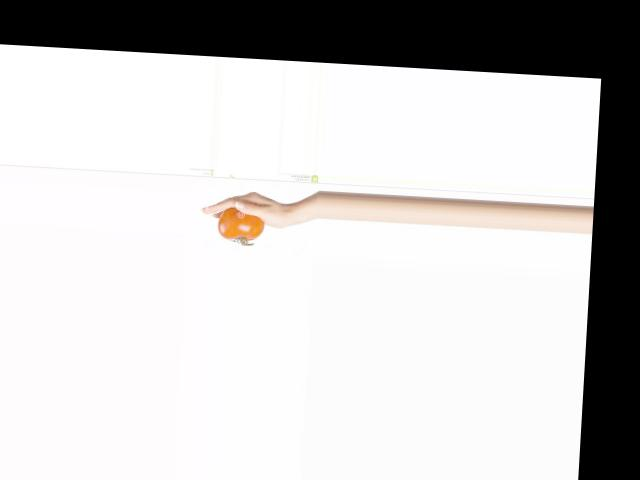tomato: (217, 206, 265, 241)
